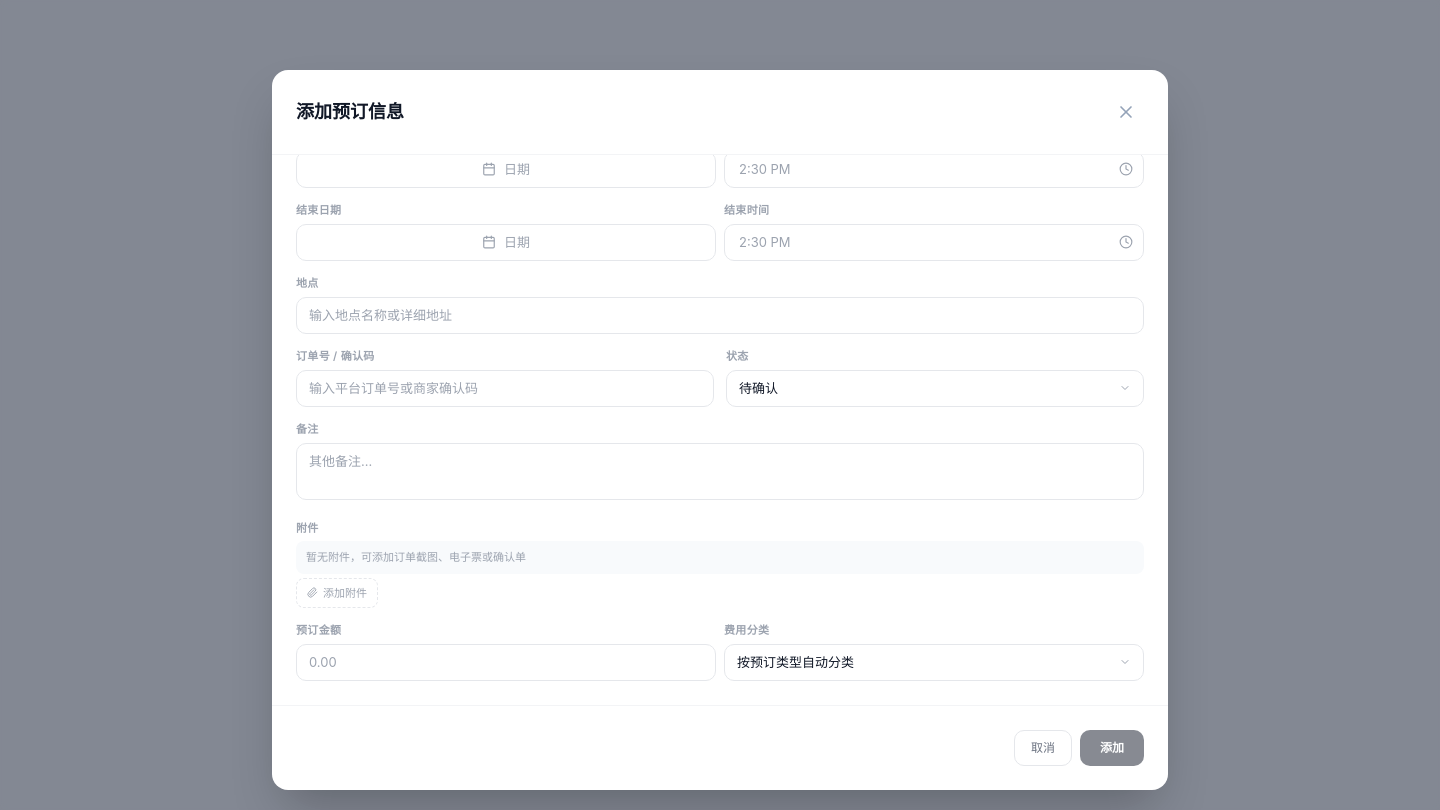
Test case: ReservationModal › FE-PLANNER-RESMODAL-026: budget hint shown when price > 0
The image size is (1440, 810).
(page scrolled)
Type "50" into the field with placeholder "0.00" at (506, 662), box [296,644,716,681]
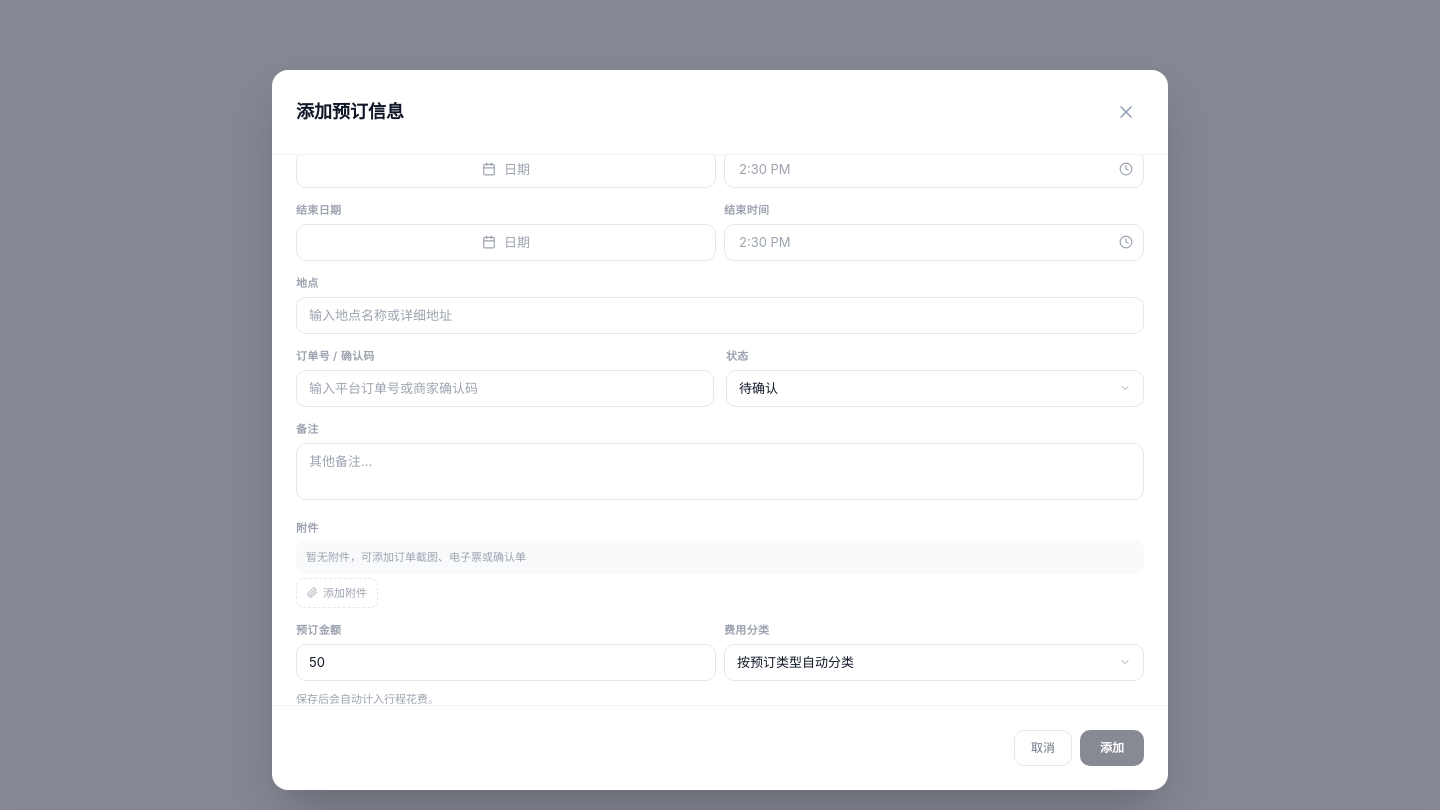
Expected: the text "保存后会自动计入行程花费。" is shown, [296,692,439,705]
